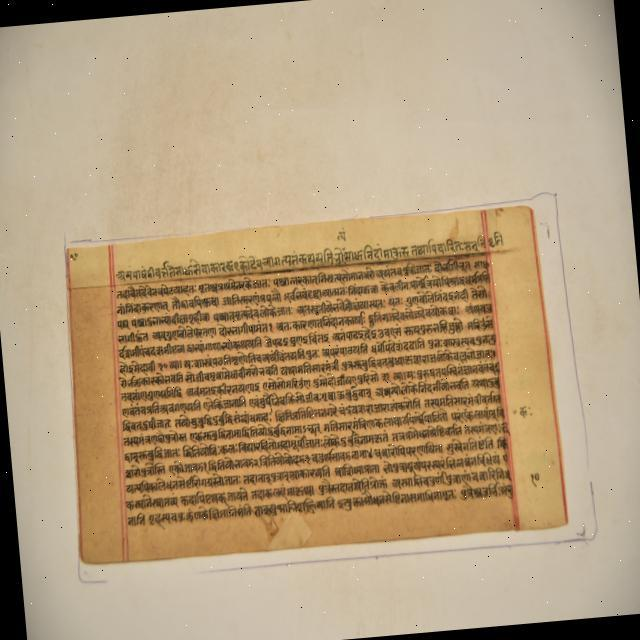text_paragraph: (64, 203, 566, 565)
